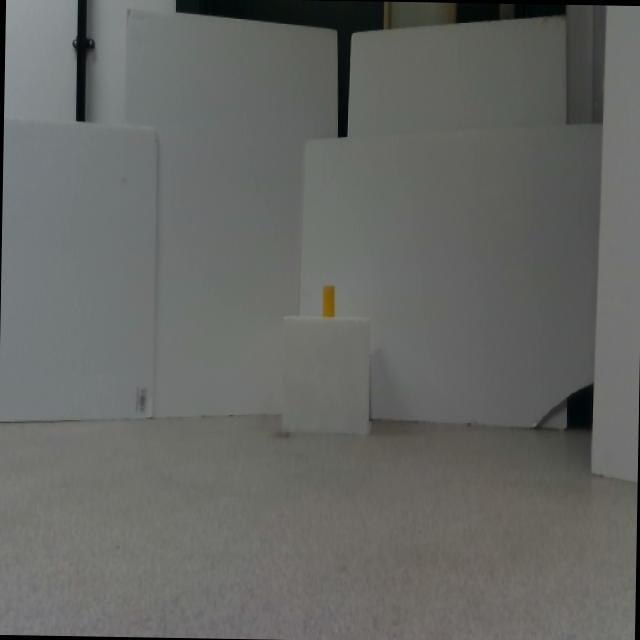yellow_cylinder: (322, 284, 335, 316)
